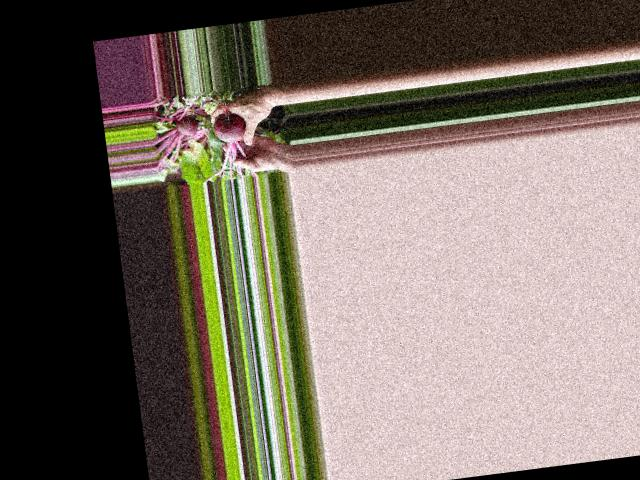beet: (194, 110, 253, 183)
